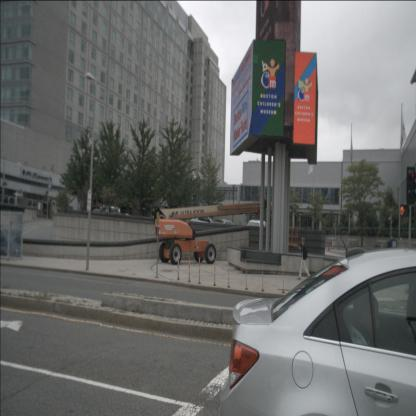human-pedestrian-adult: (296, 237, 312, 280)
movable_object-trafficcone: (261, 261, 264, 292), (245, 260, 248, 290), (213, 258, 216, 286), (198, 256, 201, 284), (188, 256, 191, 283), (227, 260, 230, 287), (177, 255, 180, 280), (282, 263, 284, 293)
vehicle-car: (218, 246, 416, 416), (190, 214, 214, 234), (212, 219, 235, 237), (246, 219, 269, 237)
